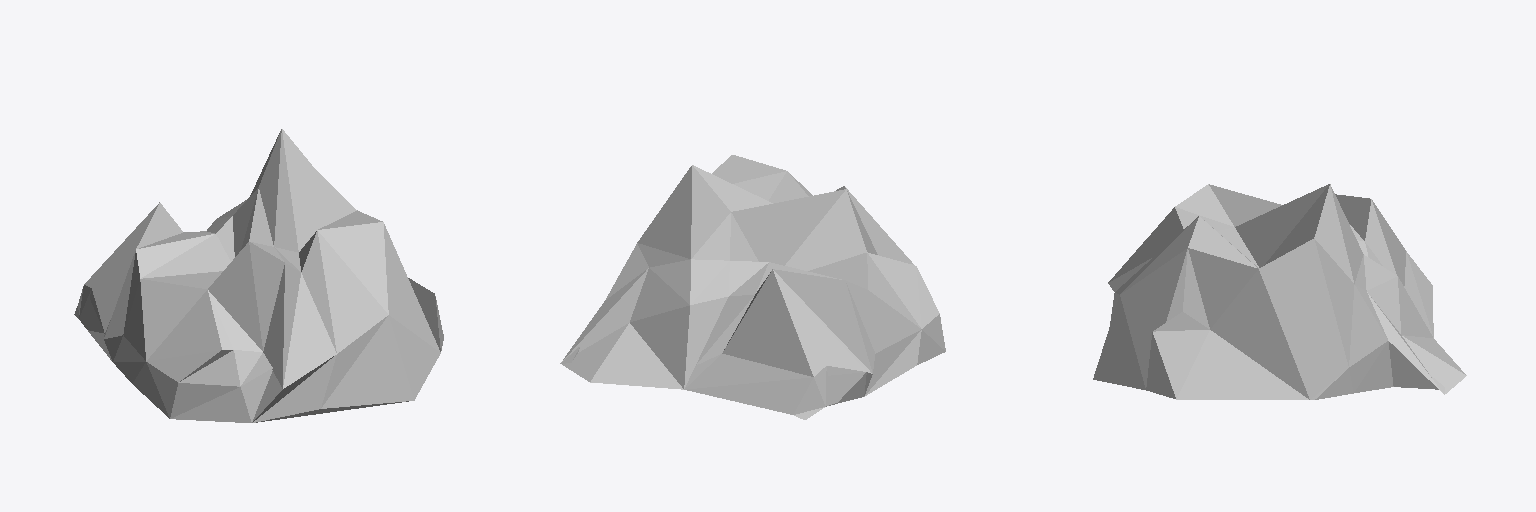
The model's file is mining_rock1.obj.
The picture shows the model from 3 angles: view 1: azimuth 30°, elevation 25°; view 2: azimuth 150°, elevation 25°; view 3: azimuth 270°, elevation 25°; orthographic projection.
Parts seen in each view (by area): view 1: Sphere; view 2: Sphere; view 3: Sphere.
Boxes of the visible parts, x1,y1,x2,y2 form: Sphere: [74, 129, 443, 422]; Sphere: [560, 155, 945, 419]; Sphere: [1093, 184, 1466, 399].
Size of the model in its own units: 6.55 by 4.46 by 7.78.